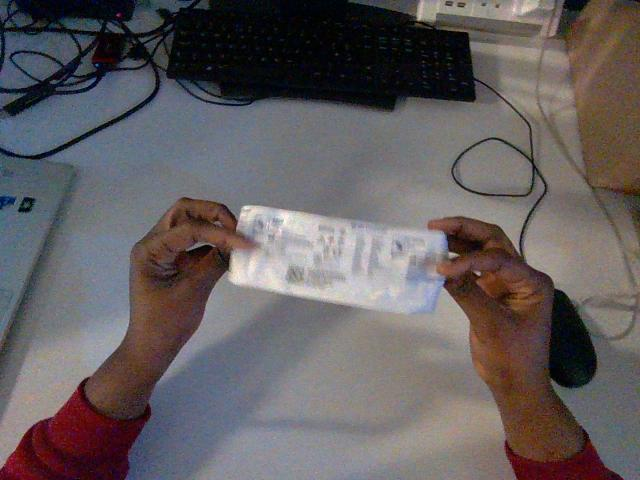syringe: (229, 206, 447, 313)
